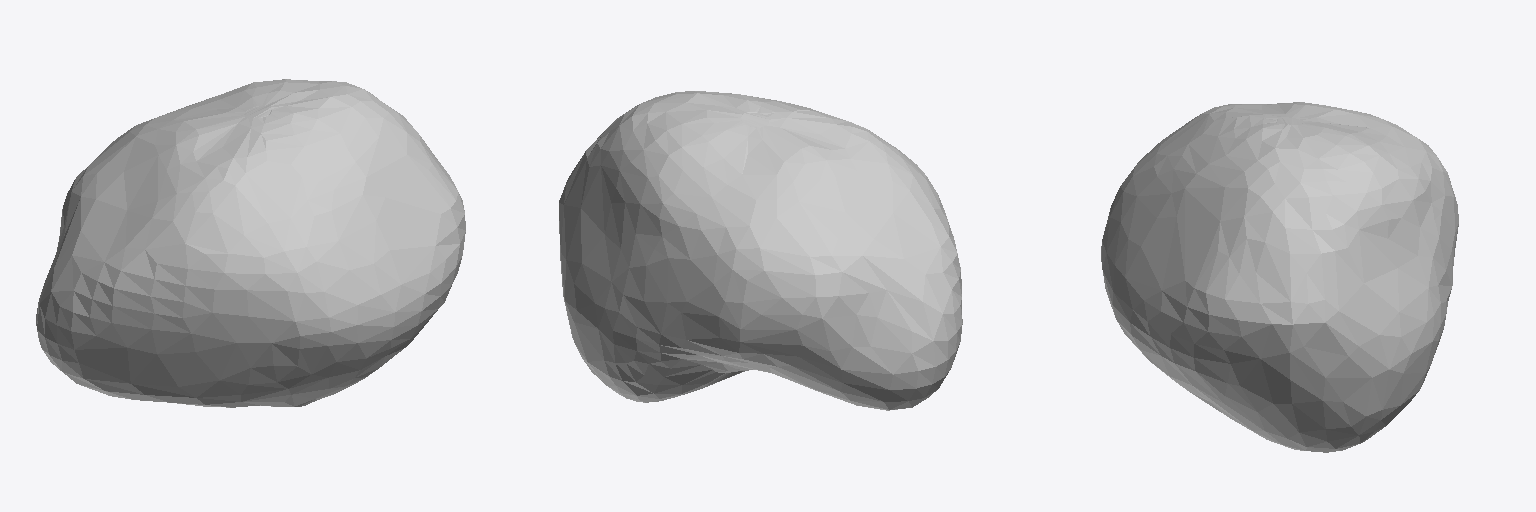
The model's file is deimos_t.obj.
3 renders of one model, left to right at view 1: azimuth 30°, elevation 25°; view 2: azimuth 150°, elevation 25°; view 3: azimuth 270°, elevation 25°, orthographic.
Visible parts, largest first — view 1: deimos; view 2: deimos; view 3: deimos.
Boxes of the visible parts, box(x1,y1,x2,y2) form: deimos: box(36, 79, 465, 407); deimos: box(559, 91, 962, 410); deimos: box(1101, 102, 1458, 452).
Size of the model in its own units: 159 by 111 by 126.